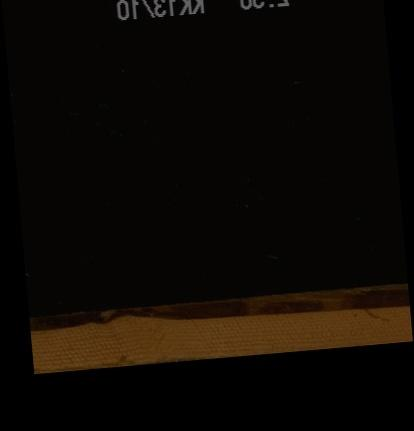wave: (29, 292, 408, 326)
